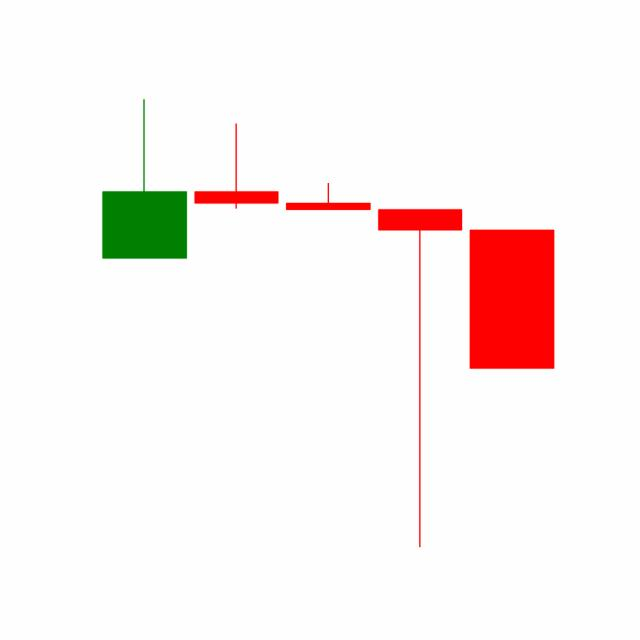Marubozu: (464, 228, 558, 370)
